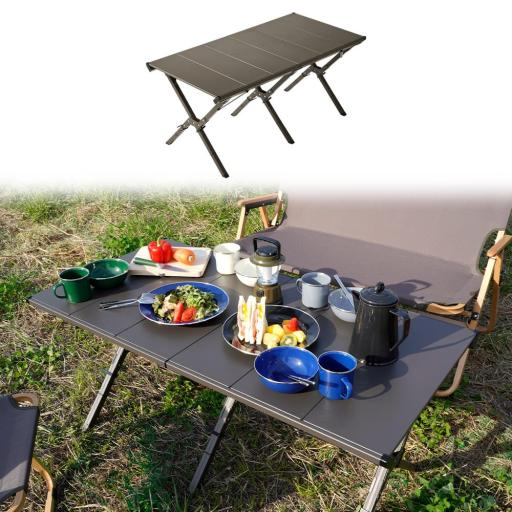table: (19, 236, 481, 505)
